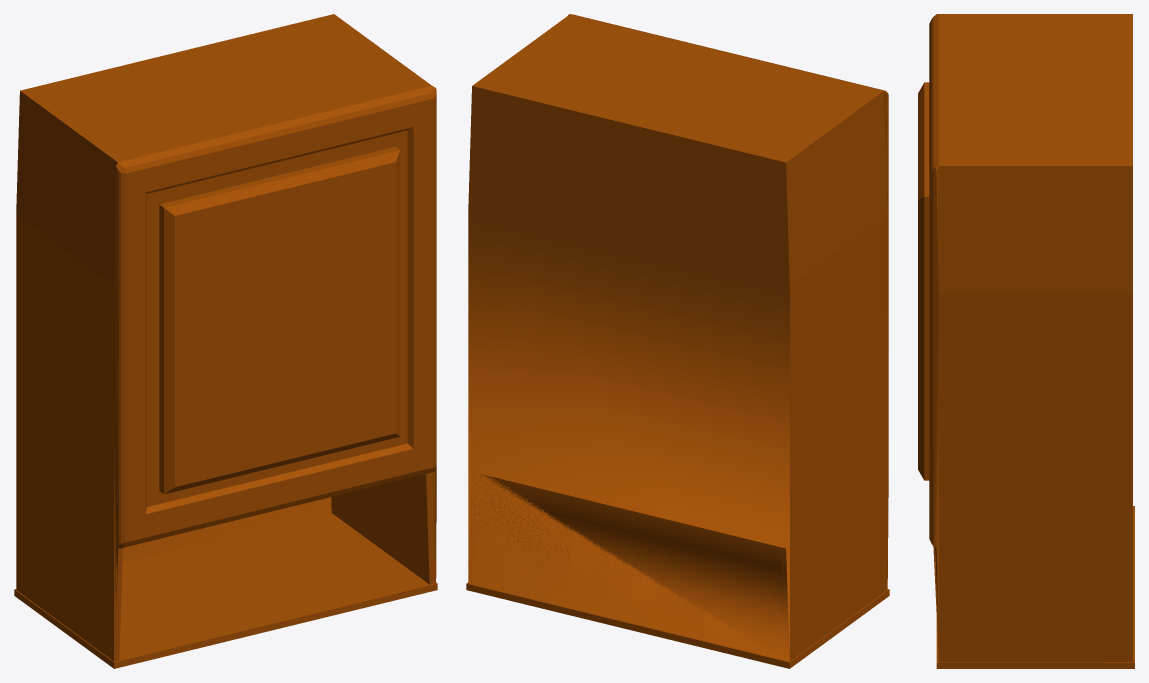
File: tủ treo quầy bar.fbx
The picture shows the model from 3 angles, left to right: view 1: azimuth 30°, elevation 25°; view 2: azimuth 150°, elevation 25°; view 3: azimuth 270°, elevation 25°; orthographic projection.
Visible parts, largest first — view 1: tu_treo_quay_bar; view 2: tu_treo_quay_bar; view 3: tu_treo_quay_bar.
Boxes of the visible parts, x1,y1,x2,y2 form: tu_treo_quay_bar: (14,14,437,668); tu_treo_quay_bar: (466,14,889,668); tu_treo_quay_bar: (918,14,1134,668).
Size of the model in its own units: 118 by 176 by 69.
